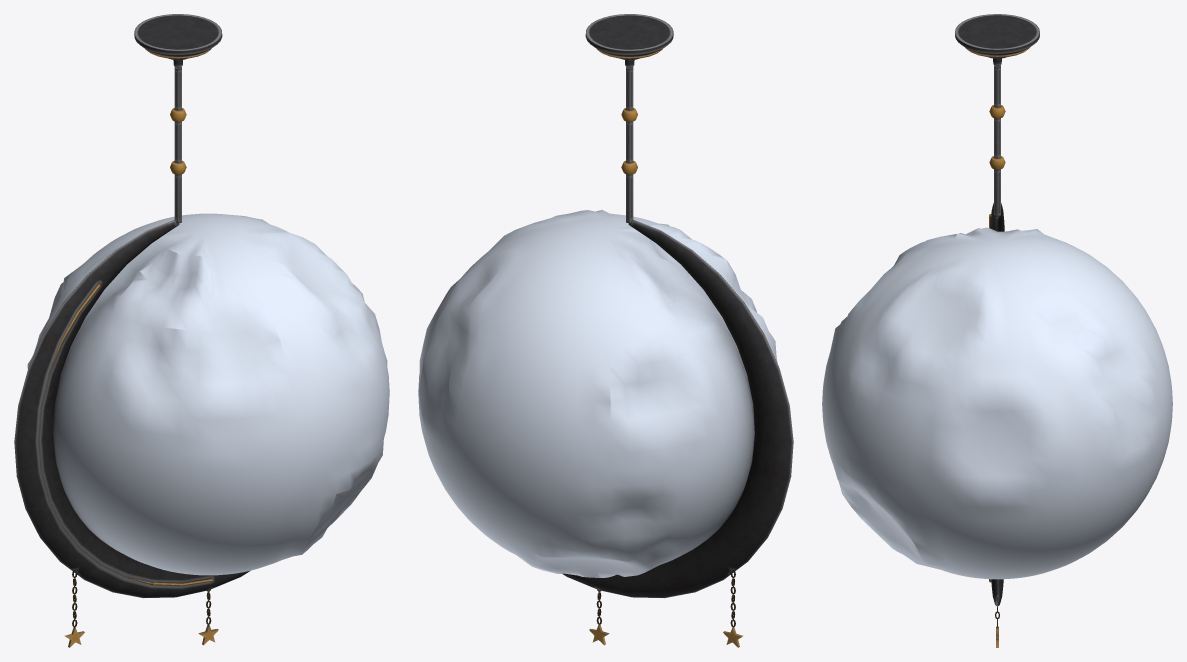
File: MoonOrb.fbx
3 views of the same model, side by side, from view 1: azimuth 30°, elevation 25°; view 2: azimuth 150°, elevation 25°; view 3: azimuth 270°, elevation 25° (orthographic). The views are drawn at different scales.
Parts seen in each view (by area): view 1: MoonOrb_Glow, MoonOrb_Main; view 2: MoonOrb_Glow, MoonOrb_Main; view 3: MoonOrb_Glow, MoonOrb_Main.
Part boxes in pixels (box(x1,y1,x2,y2)): MoonOrb_Glow: box(27, 213, 389, 575); MoonOrb_Main: box(14, 14, 250, 647); MoonOrb_Glow: box(418, 209, 777, 577); MoonOrb_Main: box(562, 14, 793, 647); MoonOrb_Glow: box(822, 227, 1172, 579); MoonOrb_Main: box(955, 14, 1039, 647).
Size of the model in its own units: 315 by 527 by 280.
